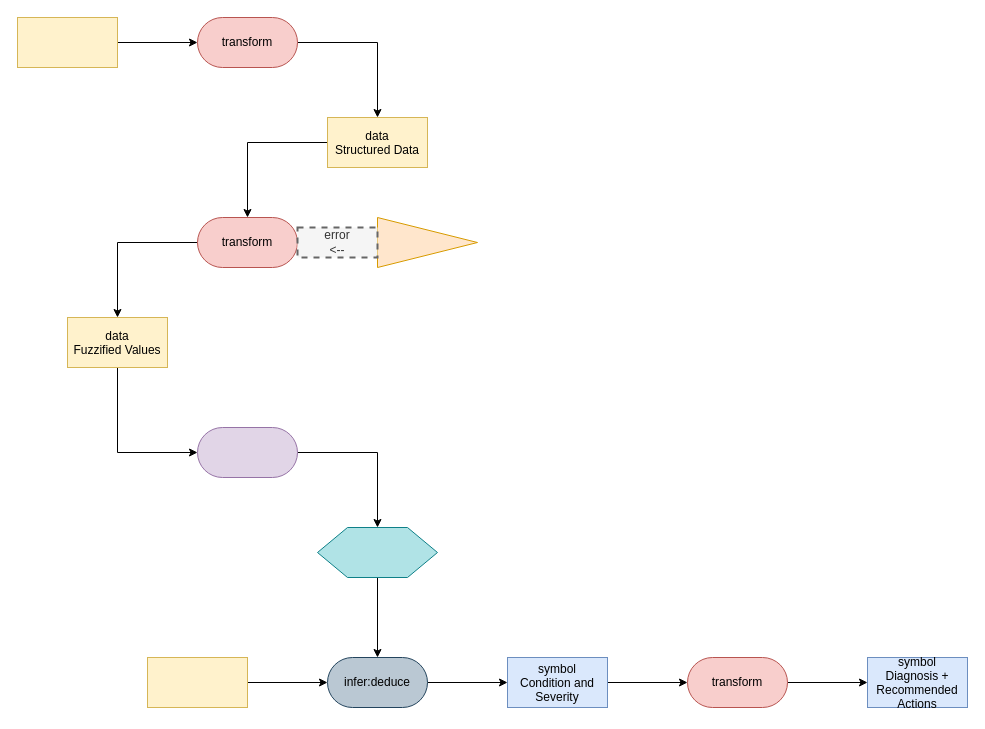
Some shapes in this 985 by 729 pixel diagram are drawn without their labels. Each missing label, with the centre of its shape:
"actor Physicians" goes at [427,242].
"data Patient Symptoms" goes at [197,682].
"data Symptom Back Pains" goes at [67,42].
"generate:train" goes at [247,452].
"model:hybrid FNDSB" goes at [377,552].
